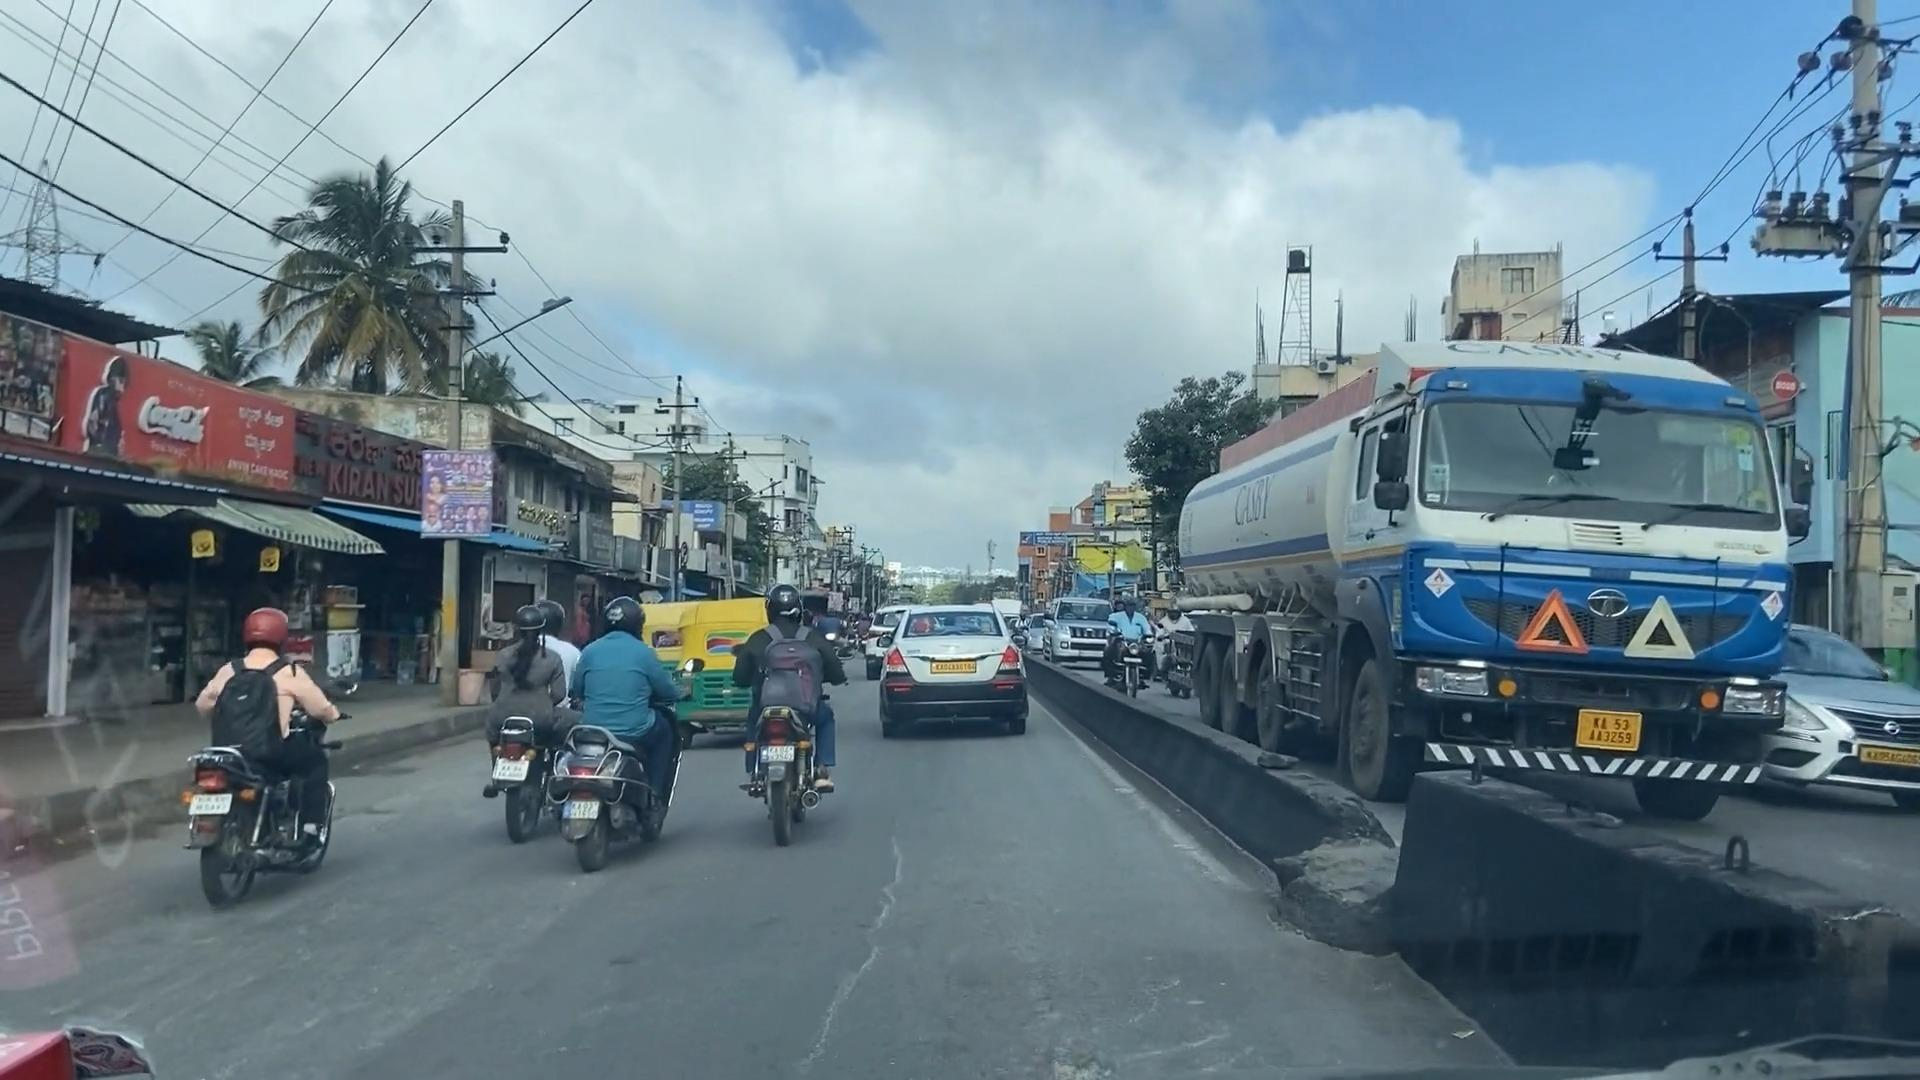LMV: (553, 596, 674, 885), (884, 604, 1025, 740), (750, 600, 827, 851)
RoadDamages: (111, 947, 411, 1058), (975, 939, 1154, 1050), (799, 909, 880, 1023), (858, 796, 913, 895)
